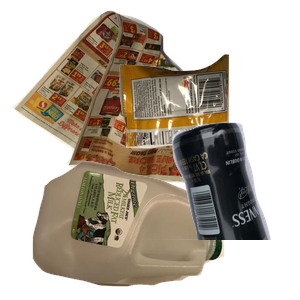glass: (106, 120, 300, 300)
paper: (10, 10, 217, 189)
plastic: (30, 159, 247, 300)
trash: (117, 52, 300, 193)
